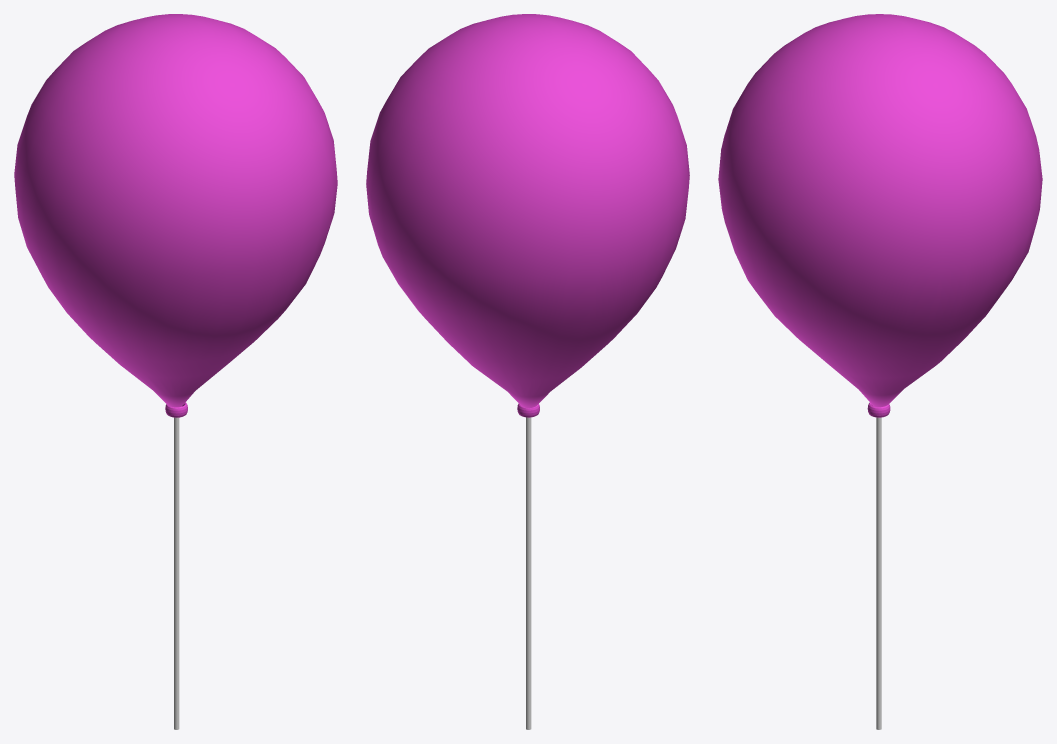
The model's file is balloon_pink_1.glb.
3 views of the same model, side by side, from view 1: azimuth 30°, elevation 25°; view 2: azimuth 150°, elevation 25°; view 3: azimuth 270°, elevation 25° (orthographic).
Visible parts, largest first — view 1: Sphere.008, Cylinder.008; view 2: Sphere.008, Cylinder.008; view 3: Sphere.008, Cylinder.008.
Part boxes in pixels (x1,y1,x2,y2): Sphere.008: [14, 14, 337, 407]; Cylinder.008: [174, 417, 179, 729]; Sphere.008: [366, 14, 689, 407]; Cylinder.008: [526, 417, 531, 729]; Sphere.008: [718, 14, 1042, 407]; Cylinder.008: [876, 417, 881, 729].
Size of the model in its own units: 2 by 4.76 by 2.
